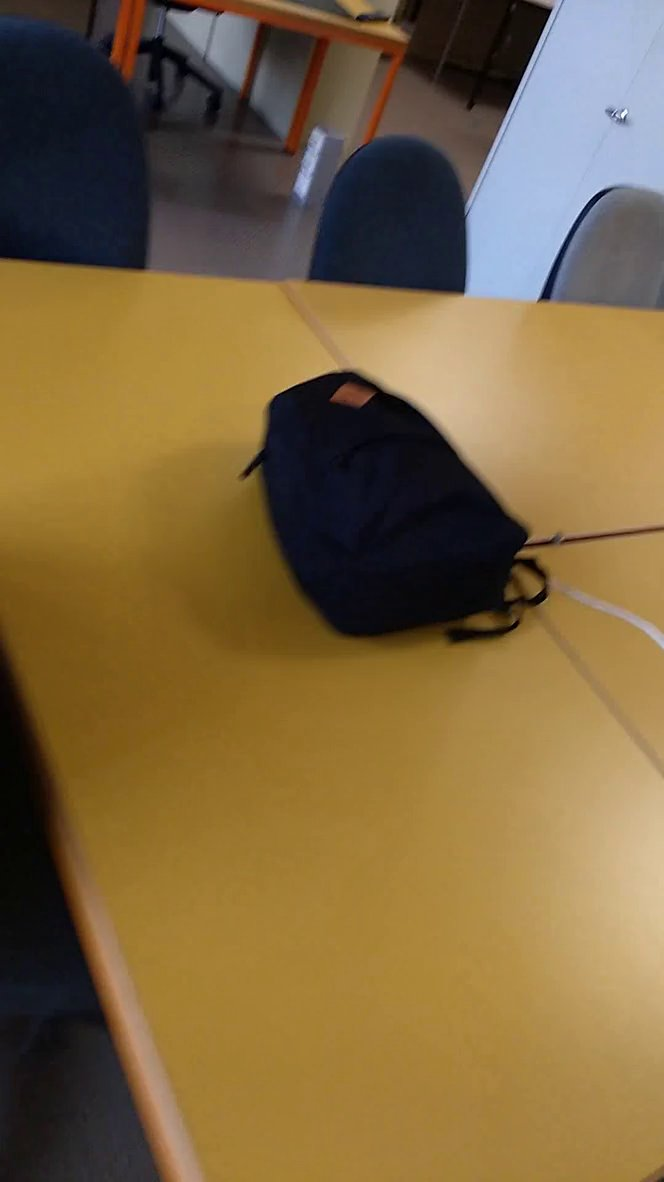bag: (231, 361, 568, 657)
chair: (1, 14, 164, 280), (296, 120, 484, 306), (530, 179, 664, 328)
